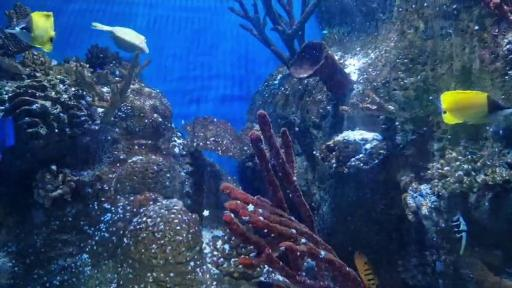Fish: (440, 90, 512, 124), (5, 11, 55, 52), (91, 22, 149, 53), (354, 252, 378, 288)
